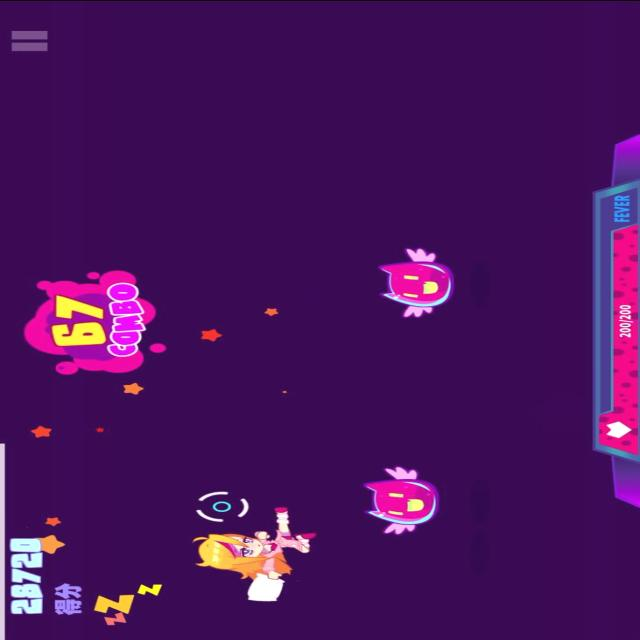mao: (372, 246, 458, 320), (354, 464, 440, 532)
